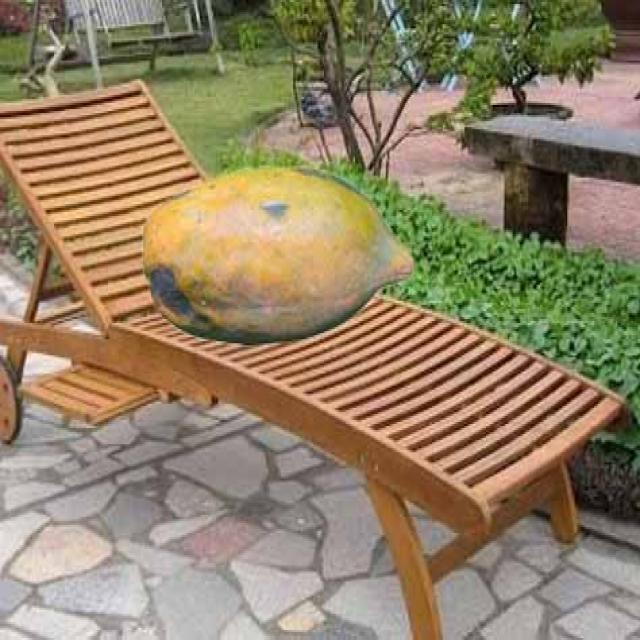Pepaya rippen: (134, 156, 409, 346)
